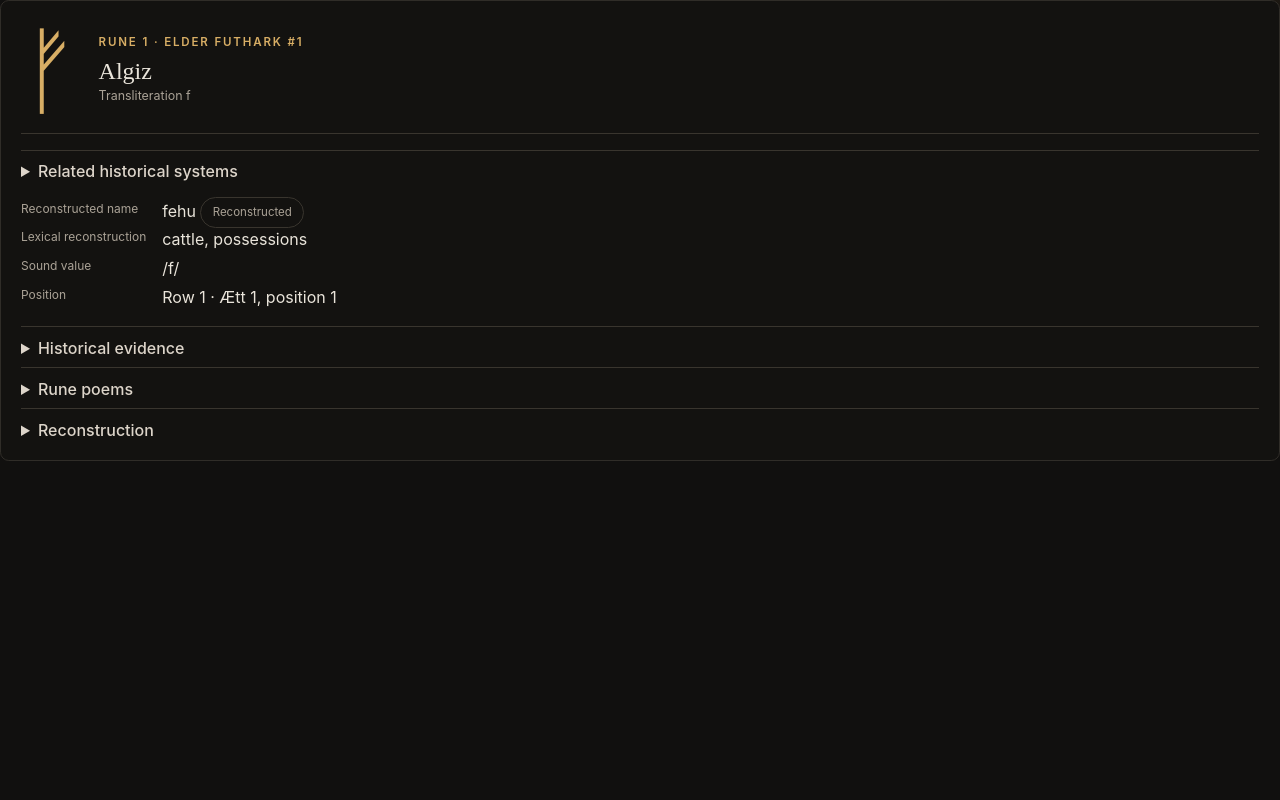
Test case: exposes cautious related-system and poem mappings as readable text
Click the heading "Related historical systems": [138, 171] box [38,161,238,181]
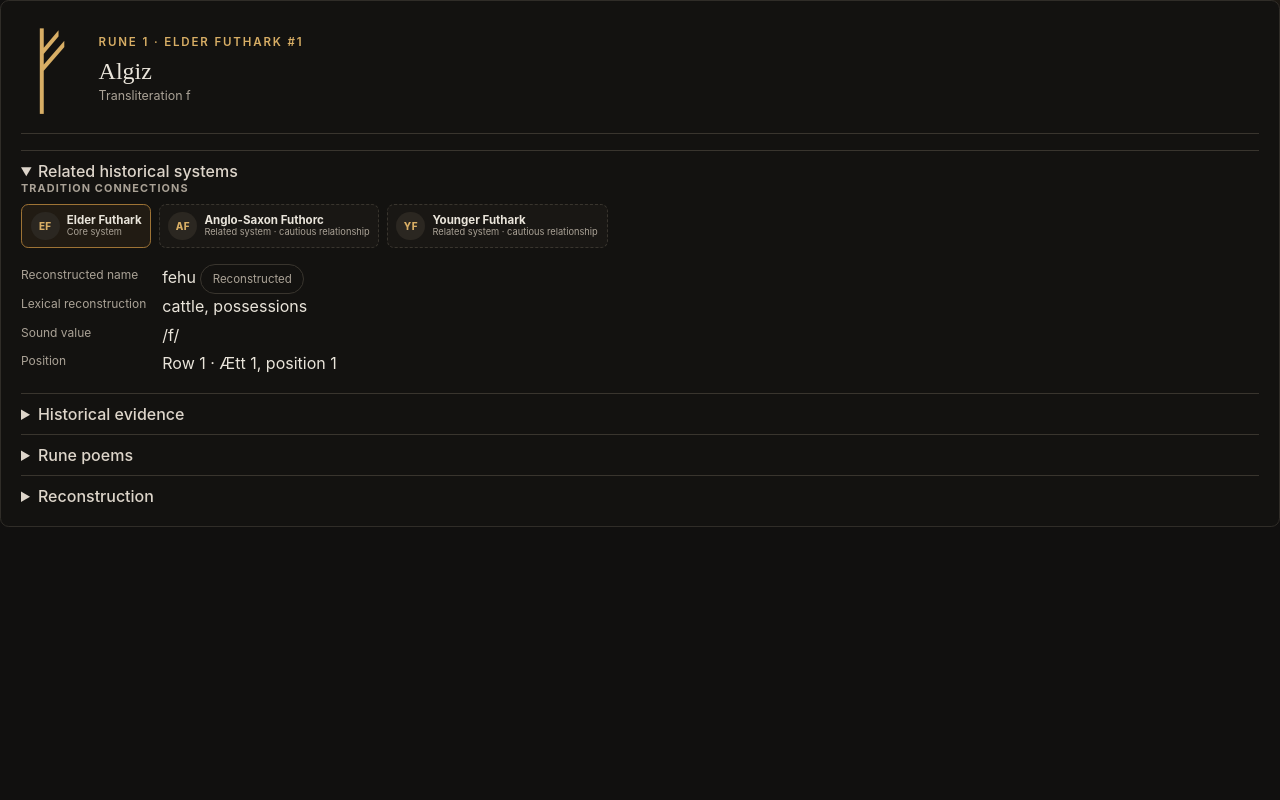
Check: the text "Related system · cautious relationship" is shown 2 times, box [204,227,370,238]; [432,227,598,238]
Click the heading "Rune poems": [85, 455] box [38,445,133,465]
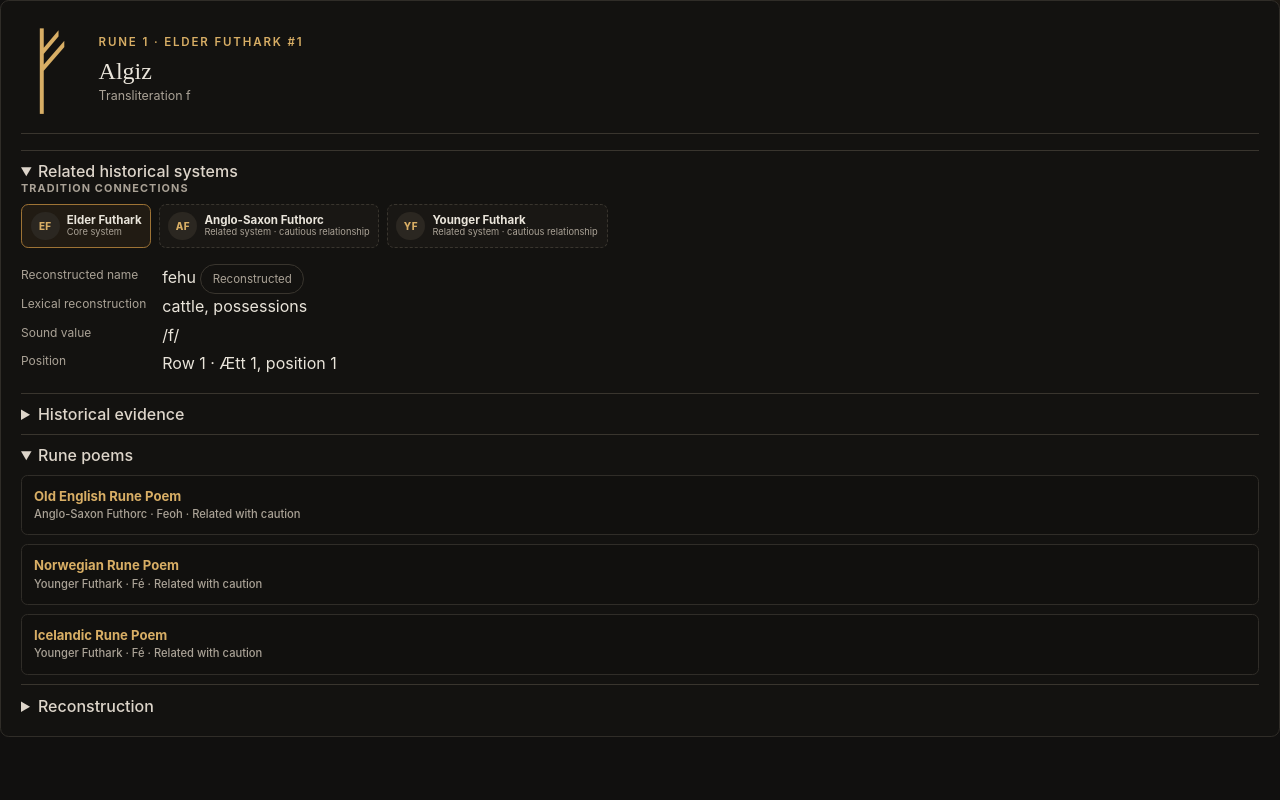
Check: the text "Anglo-Saxon Futhorc · Feoh · Related with caution" is shown 3 times, box [34,507,301,521]; [34,577,262,591]; [34,646,262,660]
